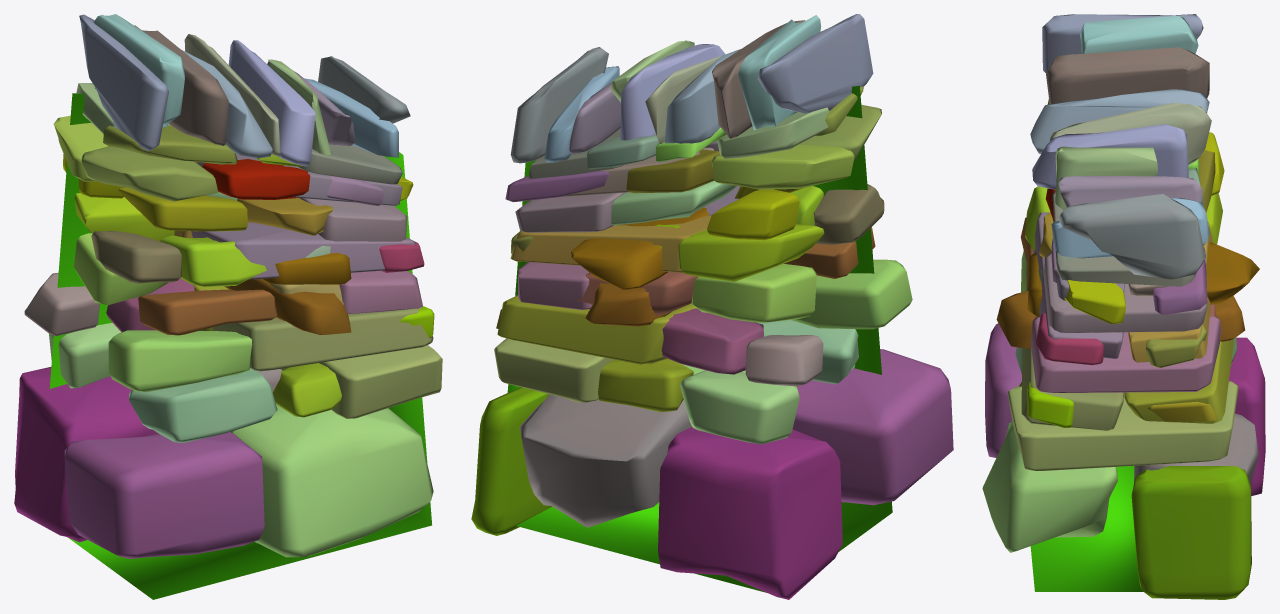
The model's file is SM_WallEnd_A.glb.
3 renders of one model, left to right at view 1: azimuth 30°, elevation 25°; view 2: azimuth 150°, elevation 25°; view 3: azimuth 270°, elevation 25°, orthographic. The views are drawn at different scales.
Visible parts, largest first — view 1: SM_WallEnd_A; view 2: SM_WallEnd_A; view 3: SM_WallEnd_A.
Boxes of the visible parts, left/top/right/bottom form: SM_WallEnd_A: left=14, top=14, right=442, bottom=599; SM_WallEnd_A: left=471, top=14, right=953, bottom=599; SM_WallEnd_A: left=982, top=14, right=1265, bottom=599.
Size of the model in its own units: 1.17 by 1.68 by 0.9101.
